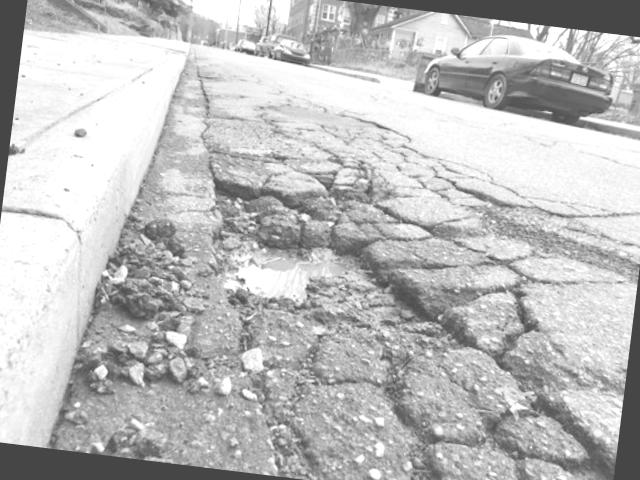Pothole: (62, 118, 577, 480)
